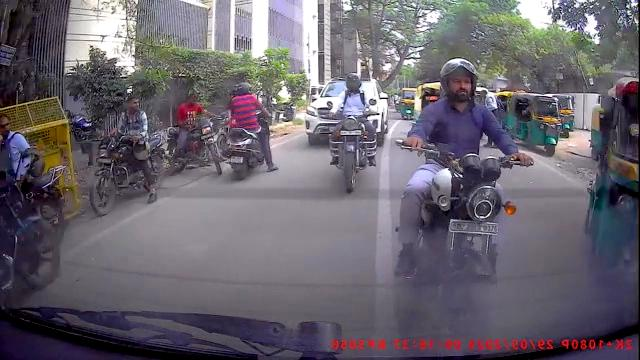motorcycle_with_helmet: (390, 56, 536, 337), (330, 72, 379, 195), (223, 81, 278, 180)
motorcycle_without_helmet: (86, 94, 162, 217), (164, 88, 220, 175)
